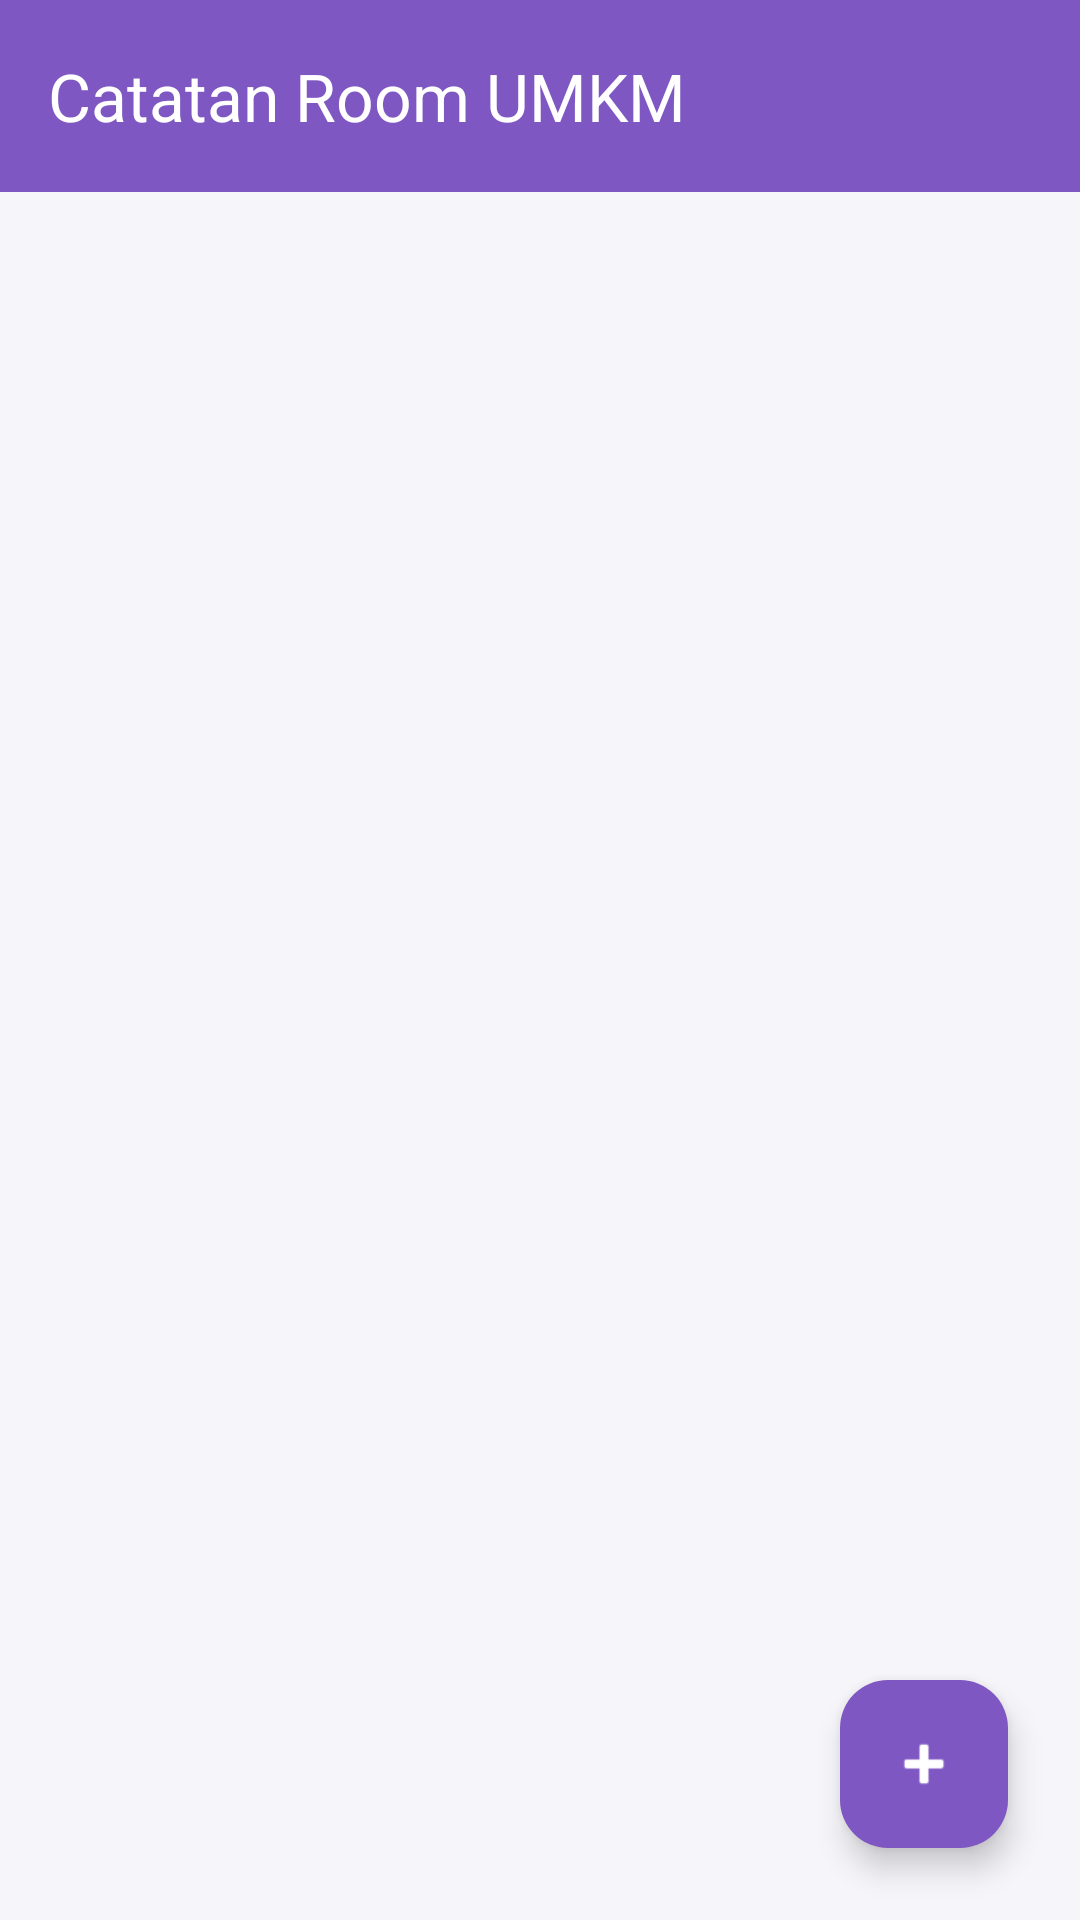

Named icons in this screenshot (1080 × 1920) and their centers, [x,y]:
Tambah Catatan: [924,1764]
